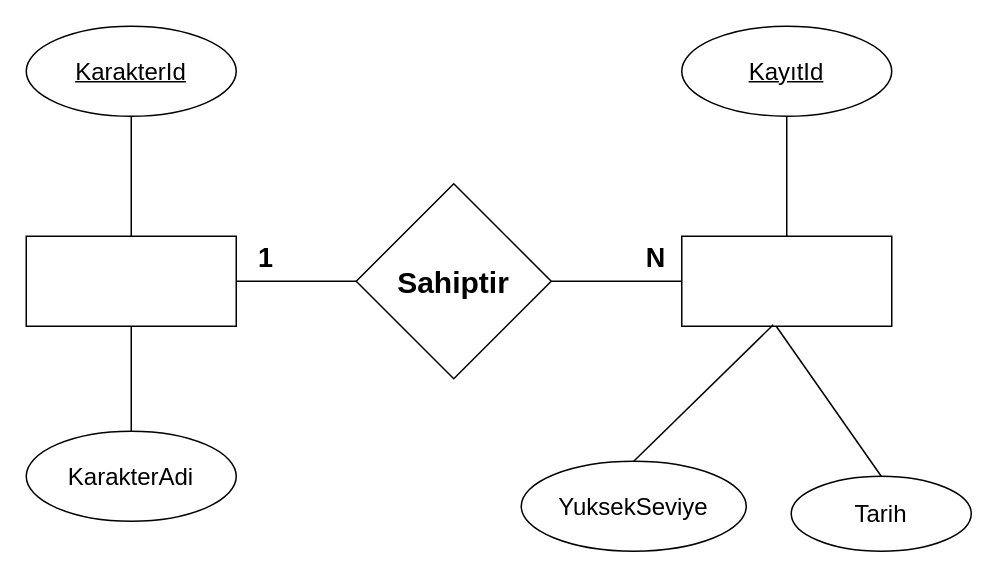
Image size: 998x578. Some labels were removed from this diagram. Here are the shapes that lost their labels. From the top down, the centre of each, then its label:
the point at 130,280: Karakter
the point at 786,280: OyuncuKaydi
